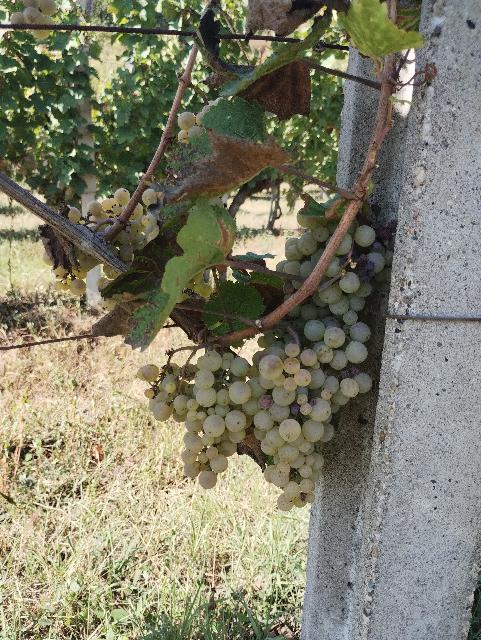grapes: (242, 316, 372, 511), (145, 351, 258, 489), (312, 211, 398, 316), (42, 232, 100, 295), (60, 188, 131, 236), (108, 202, 159, 268), (279, 220, 332, 279)
